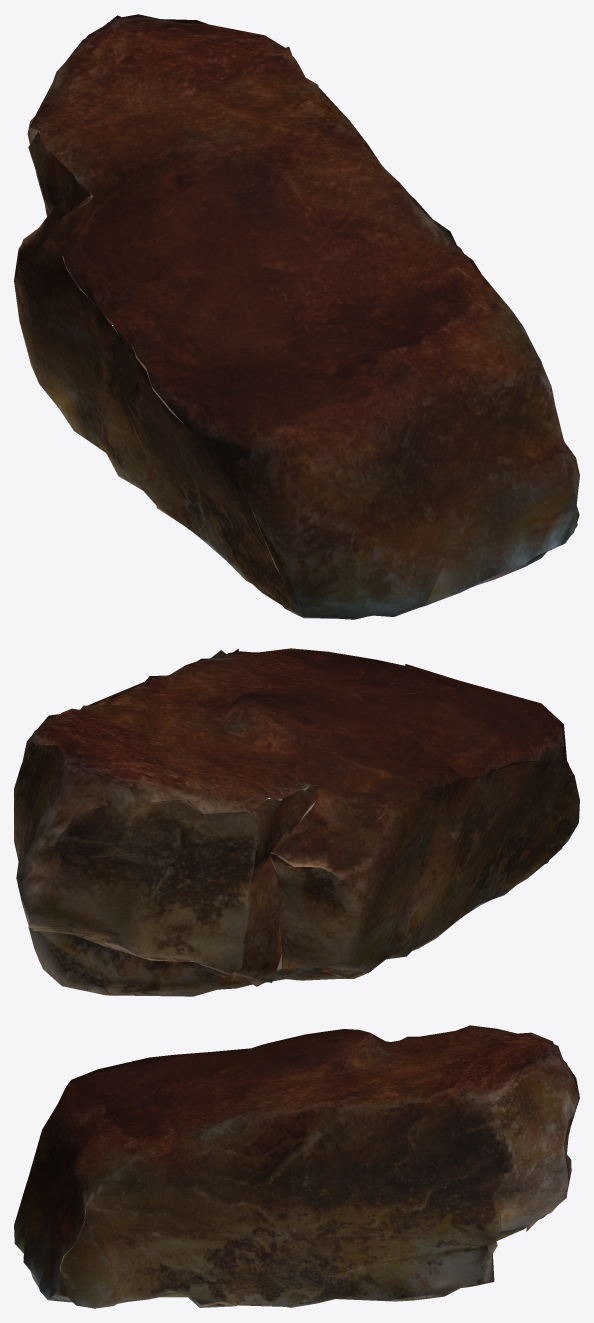
File: rock_07.glb
3 renders of one model, top to bottom at view 1: azimuth 30°, elevation 25°; view 2: azimuth 150°, elevation 25°; view 3: azimuth 270°, elevation 25°, orthographic. The views are drawn at different scales.
Visible parts, largest first — view 1: rock_07; view 2: rock_07; view 3: rock_07.
Boxes of the visible parts, x1,y1,x2,y2 form: rock_07: [14, 14, 579, 619]; rock_07: [14, 648, 579, 996]; rock_07: [14, 1025, 579, 1308].
Bounding box in the file's own units: 0.1697 × 0.1427 × 0.321.
Materials: 1 (1 with a texture image).
